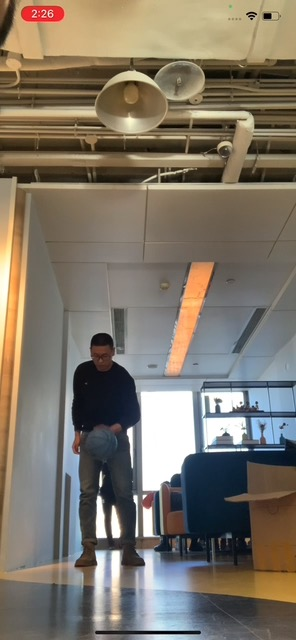ball: (85, 428, 117, 462)
